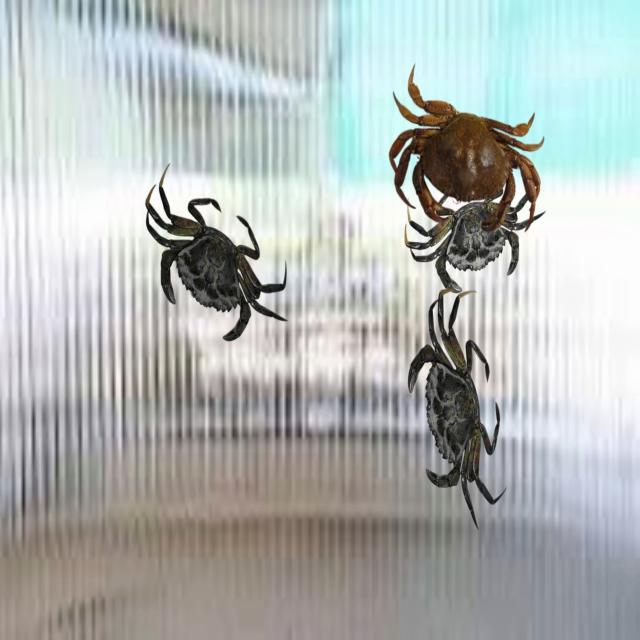European_Green_Crab: (123, 155, 307, 377), (393, 276, 519, 549), (399, 159, 553, 307)
